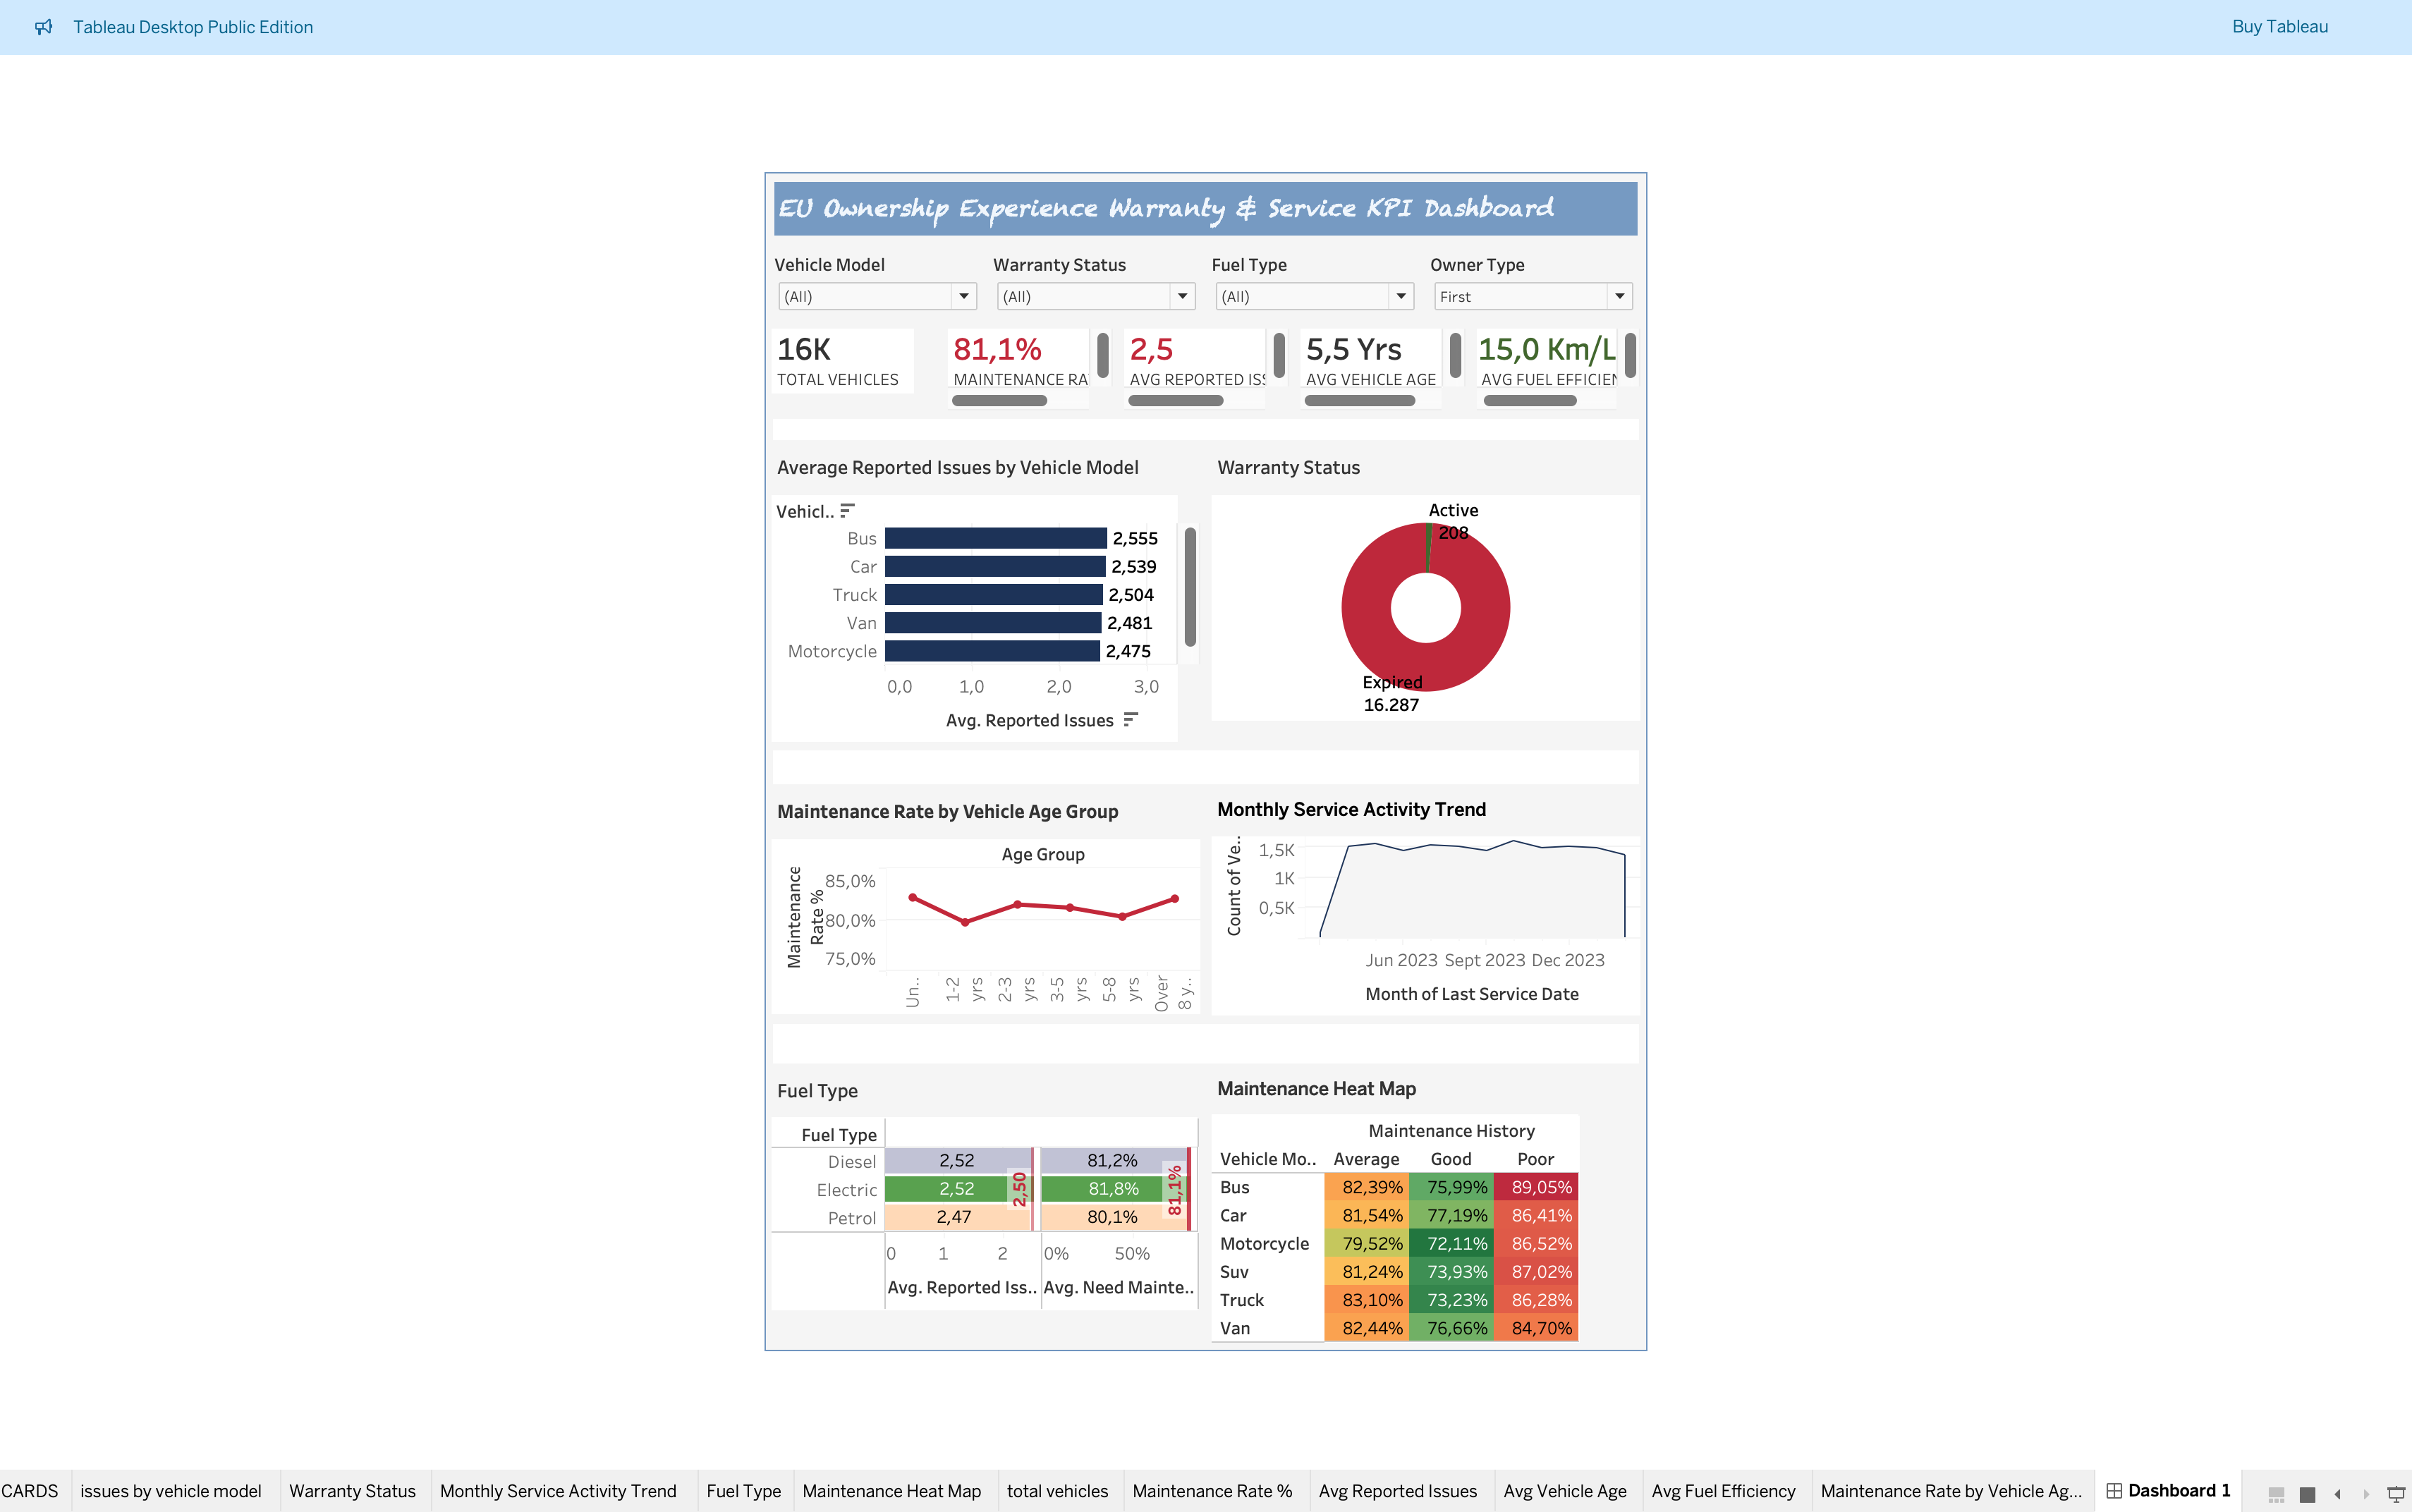

This screenshot's page, from the dashboard's own definition file:
{"tool":"tableau","page":{"name":"Dashboard 1","canvas":[1000,1000],"units":"permille","ordinal":0},"visuals":[{"type":"text","box":[18.5,14,963.1,58.1]},{"type":"filter","title":"issues by vehicle model","param":"[federated.1a6rch2145ltl31cx5ggi0uesg0q].[none:Vehicle_Model:nk]","box":[21.5,74.4,240,60.5]},{"type":"filter","title":"Warranty Status","param":"[federated.1a6rch2145ltl31cx5ggi0uesg0q].[none:Warranty_Status:nk]","box":[261.5,74.4,240,60.5]},{"type":"filter","title":"Fuel Type","param":"[federated.1a6rch2145ltl31cx5ggi0uesg0q].[none:Fuel_Type:nk]","box":[501.5,74.4,238.5,60.5]},{"type":"filter","title":"Maintenance Heat Map","param":"[federated.1a6rch2145ltl31cx5ggi0uesg0q].[none:Owner_Type:nk]","box":[740,74.4,238.5,60.5]},{"type":"worksheet","title":"total vehicles","mark":"Automatic","box":[18.5,137.2,193.8,82.6]},{"type":"worksheet","title":"Maintenance Rate %","mark":"Automatic","box":[212.3,137.2,192.3,82.6]},{"type":"worksheet","title":"Avg Reported Issues","mark":"Automatic","box":[404.6,137.2,192.3,82.6]},{"type":"worksheet","title":"Avg Vehicle Age","mark":"Automatic","box":[596.9,137.2,192.3,82.6]},{"type":"worksheet","title":"Avg Fuel Efficiency","mark":"Automatic","box":[789.2,137.2,192.3,82.6]},{"type":"blank","box":[18.5,219.8,963.1,16.3]},{"type":"worksheet","title":"issues by vehicle model","mark":"Automatic","rows":["Vehicle_Model"],"cols":["Reported_Issues"],"box":[21.5,238.4,478.5,258.1]},{"type":"worksheet","title":"Warranty Status","mark":"Pie","cols":["Calculation_223350445200883714","Calculation_223350445200883714"],"box":[500,238.4,478.5,258.1]},{"type":"blank","box":[18.5,498.8,963.1,16.3]},{"type":"worksheet","title":"Monthly Service Activity Trend","mark":"Area","rows":["Vehicle_Model"],"cols":["Last_Service_Date"],"box":[18.5,515.1,963.1,212.8]},{"type":"blank","box":[18.5,727.9,963.1,16.3]},{"type":"worksheet","title":"Fuel Type","mark":"Automatic","rows":["Fuel_Type"],"cols":["Reported_Issues","Need_Maintenance"],"box":[18.5,744.2,481.5,232.6]},{"type":"worksheet","title":"Maintenance Heat Map","mark":"Square","rows":["Vehicle_Model"],"cols":["Maintenance_History"],"box":[500,744.2,481.5,232.6]}]}

Visuals, with their boxes on the dashboard's canvas, which has no fixed pixel size, in thousandths of its width and height (x1, y1, x2, y2). These are canvas units, not pixel positions in the 2412x1512 screenshot, which may show the page scaled, cropped or inside an application window:
text: x1=18 y1=14 x2=982 y2=72
"issues by vehicle model" filter: x1=22 y1=74 x2=262 y2=135
"Warranty Status" filter: x1=262 y1=74 x2=502 y2=135
"Fuel Type" filter: x1=502 y1=74 x2=740 y2=135
"Maintenance Heat Map" filter: x1=740 y1=74 x2=978 y2=135
"total vehicles" worksheet: x1=18 y1=137 x2=212 y2=220
"Maintenance Rate %" worksheet: x1=212 y1=137 x2=405 y2=220
"Avg Reported Issues" worksheet: x1=405 y1=137 x2=597 y2=220
"Avg Vehicle Age" worksheet: x1=597 y1=137 x2=789 y2=220
"Avg Fuel Efficiency" worksheet: x1=789 y1=137 x2=982 y2=220
blank: x1=18 y1=220 x2=982 y2=236
"issues by vehicle model" worksheet: x1=22 y1=238 x2=500 y2=496
"Warranty Status" worksheet (Pie marks): x1=500 y1=238 x2=978 y2=496
blank: x1=18 y1=499 x2=982 y2=515
"Monthly Service Activity Trend" worksheet (Area marks): x1=18 y1=515 x2=982 y2=728
blank: x1=18 y1=728 x2=982 y2=744
"Fuel Type" worksheet: x1=18 y1=744 x2=500 y2=977
"Maintenance Heat Map" worksheet (Square marks): x1=500 y1=744 x2=982 y2=977
